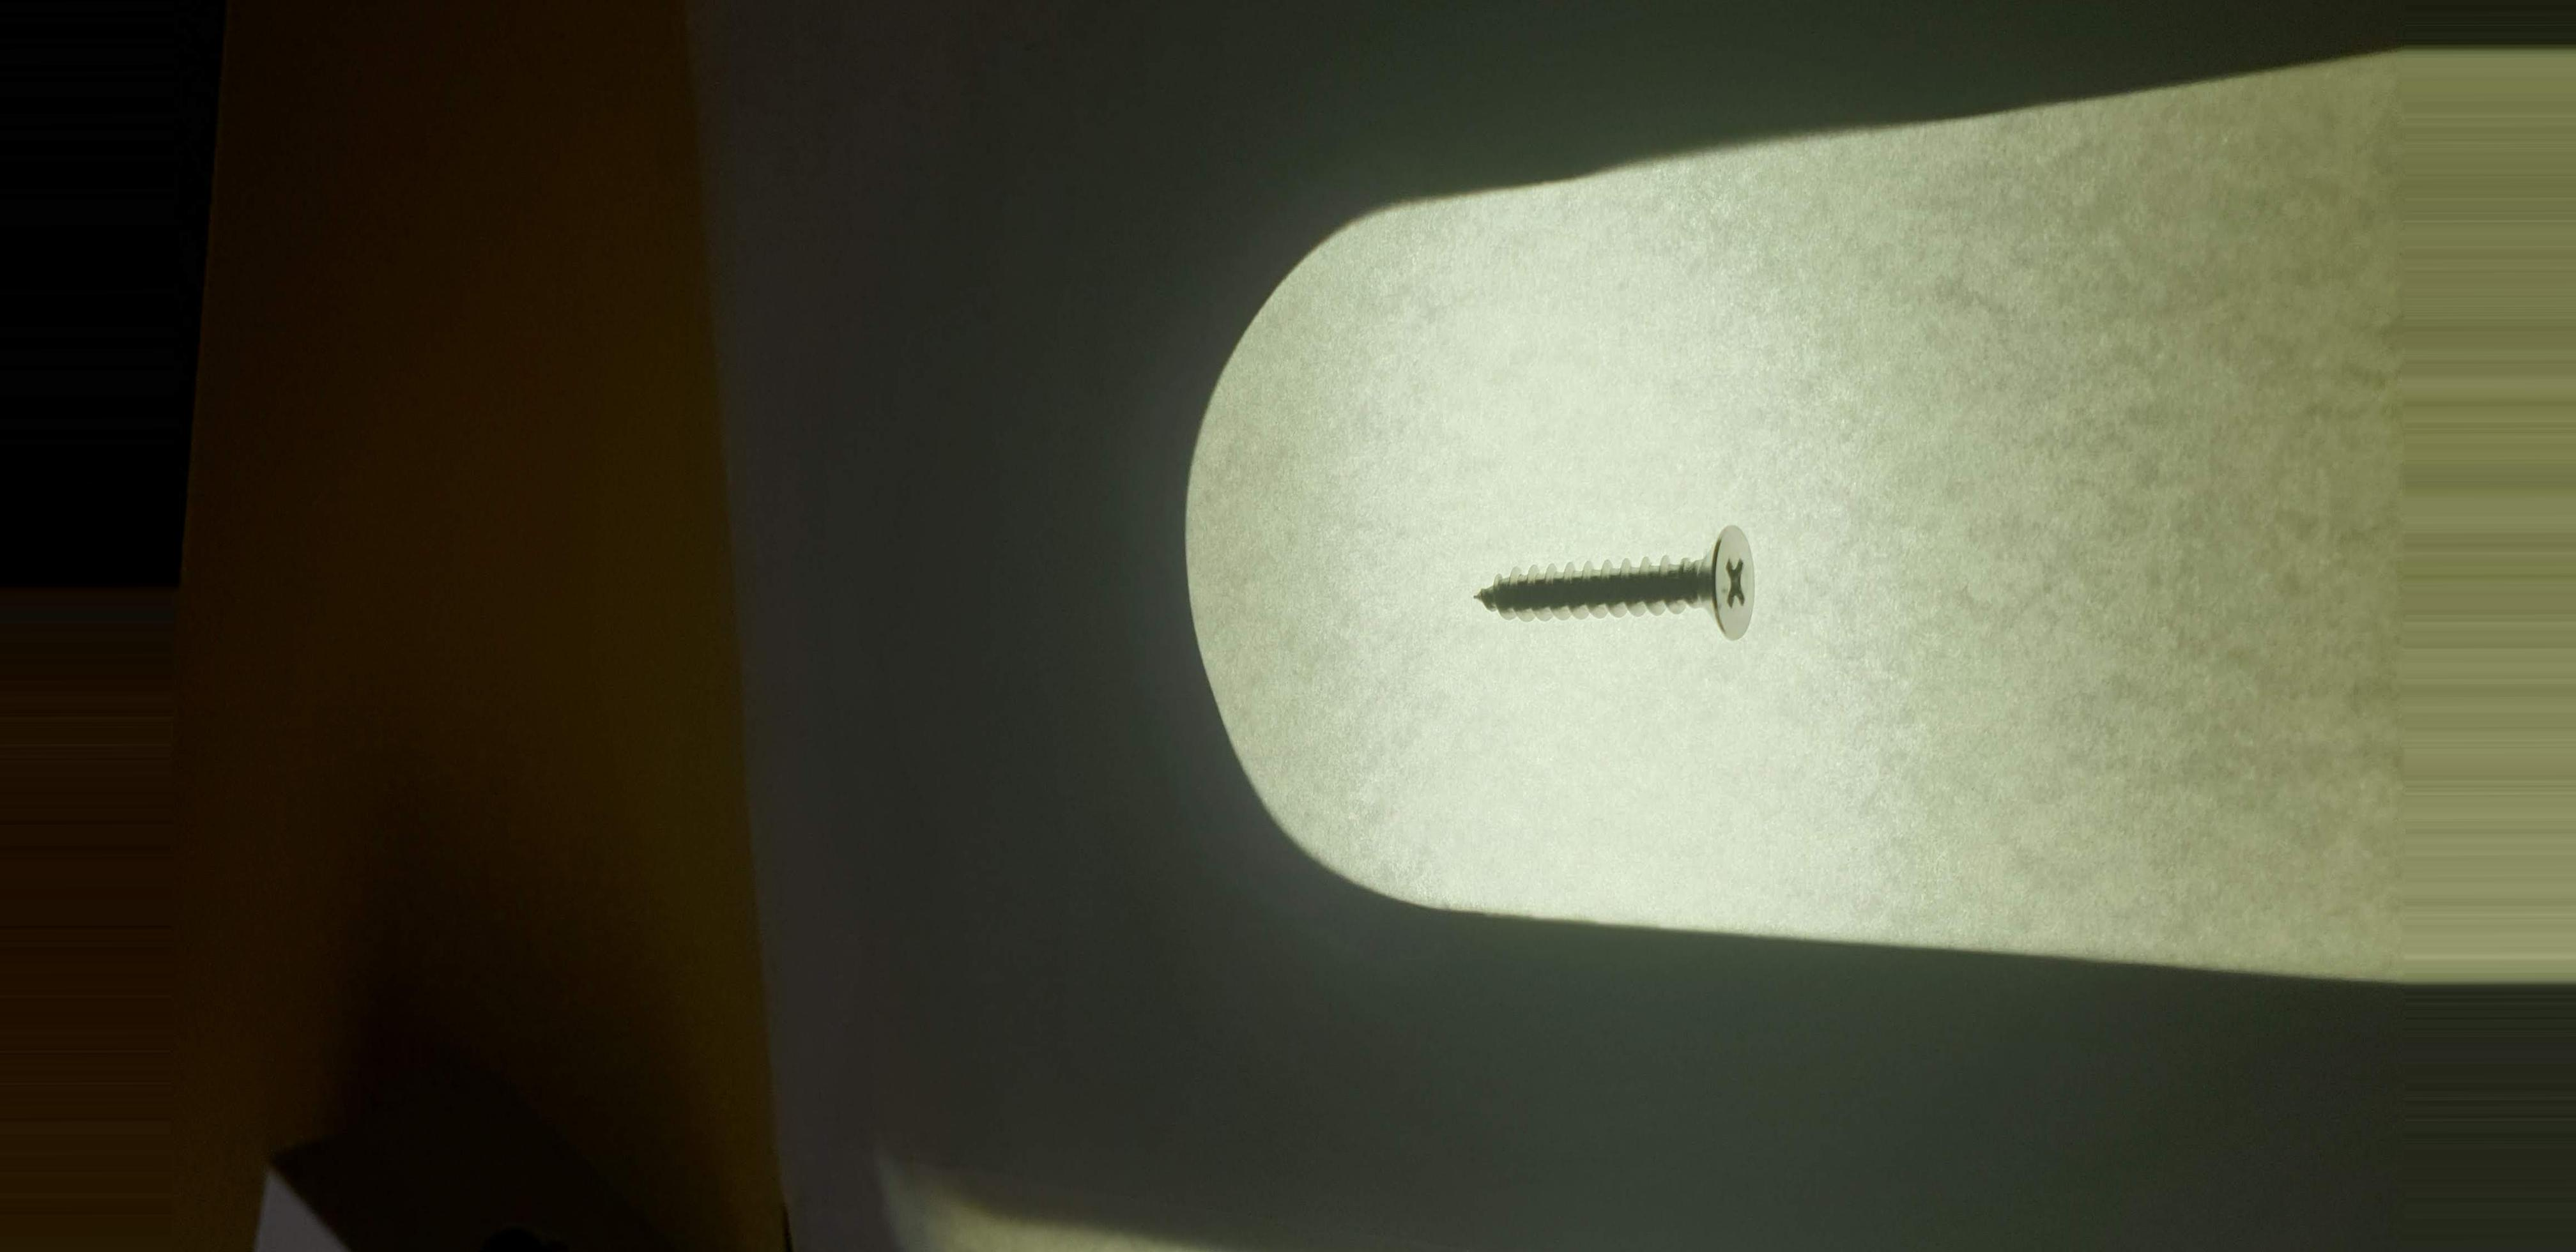S004: (1441, 506, 1822, 664)
